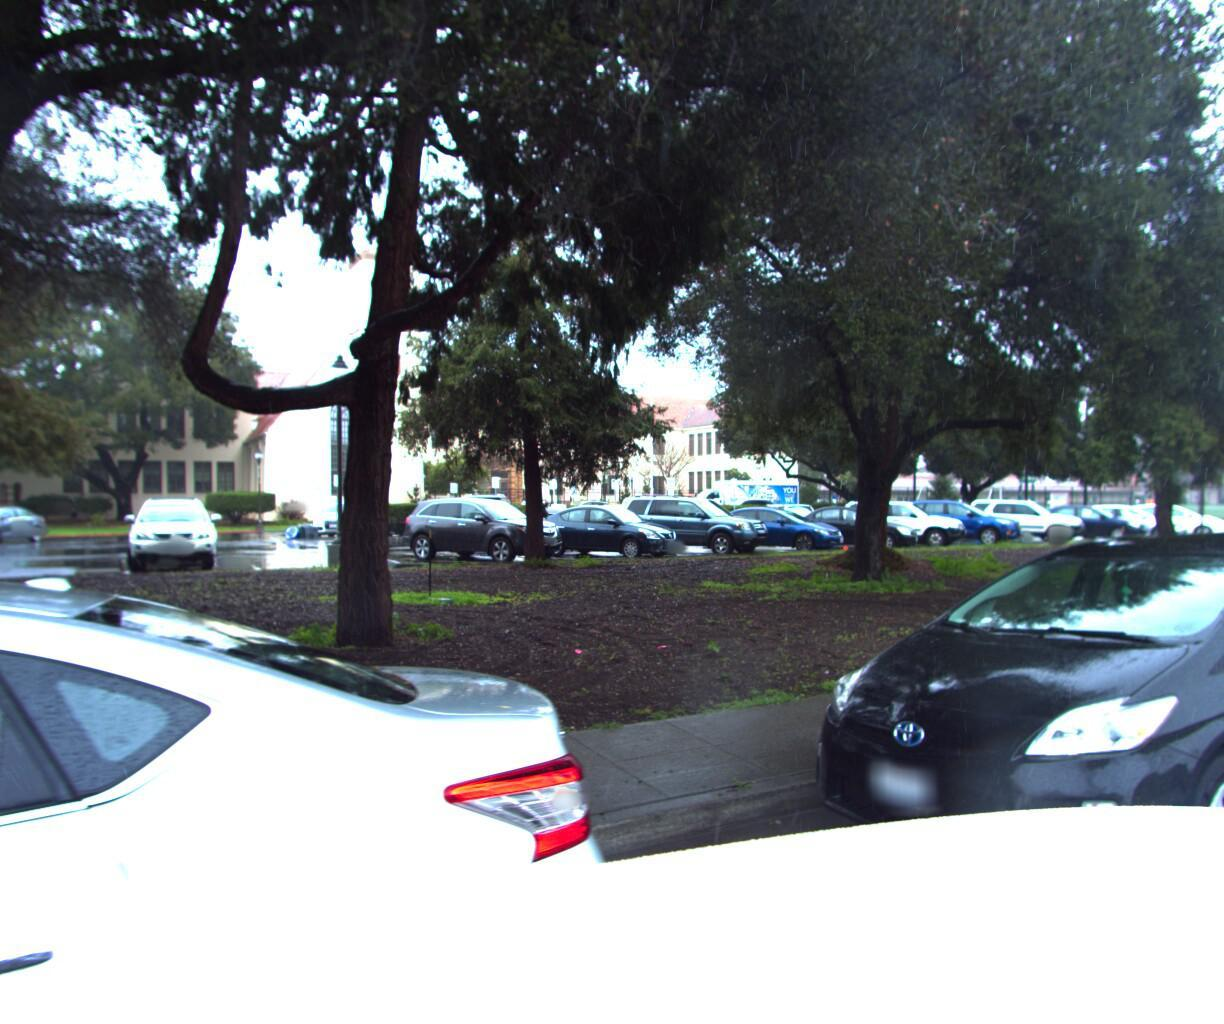car: (761, 519, 1224, 1024)
